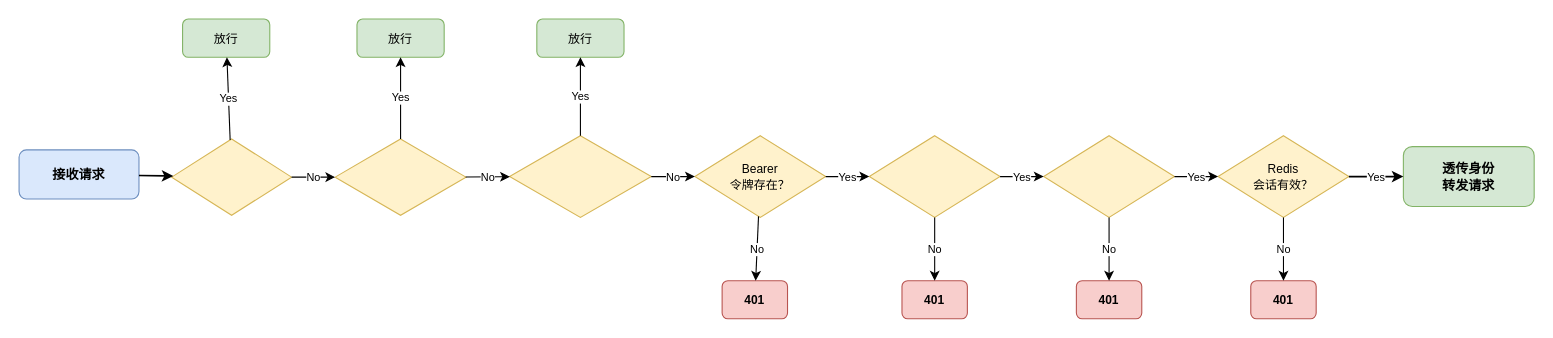
This 1553x338 diagram has some shape labels left out. Here are the shapes that lost their labels. From the top down, the centre of each, then its label:
At pixel 231 176: "OPTIONS?".
At pixel 400 176: "GET 且在 白名单？".
At pixel 579 176: "匹配 permit Prefixes？".
At pixel 934 176: "JWT 签名 通过？".
At pixel 1108 176: "声明字段 有效？".
